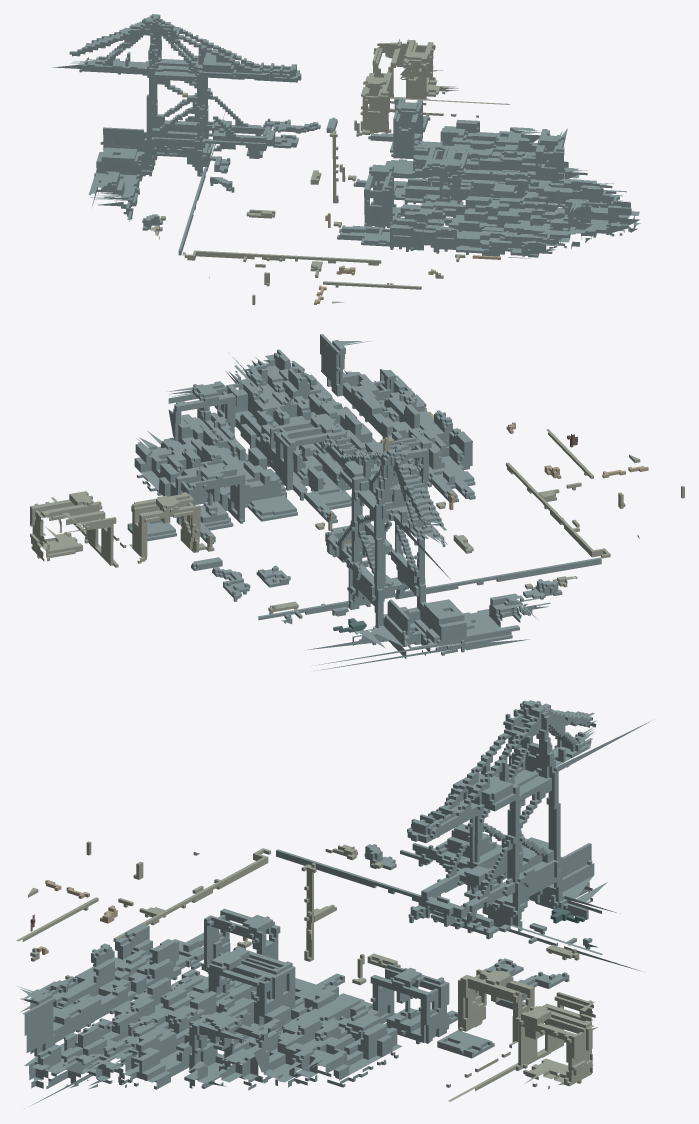
The picture shows the model from 3 angles, top to bottom: view 1: azimuth 30°, elevation 25°; view 2: azimuth 150°, elevation 25°; view 3: azimuth 270°, elevation 25°; orthographic projection. The views are drawn at different scales.
Parts seen in each view (by area): view 1: measured-industrial; view 2: measured-industrial; view 3: measured-industrial.
Part boxes in pixels (<box>): measured-industrial: <box>52,14,640,305</box>; measured-industrial: <box>30,334,684,670</box>; measured-industrial: <box>16,700,650,1108</box>.
Bounding box in the file's own units: 297 × 102 × 299.
